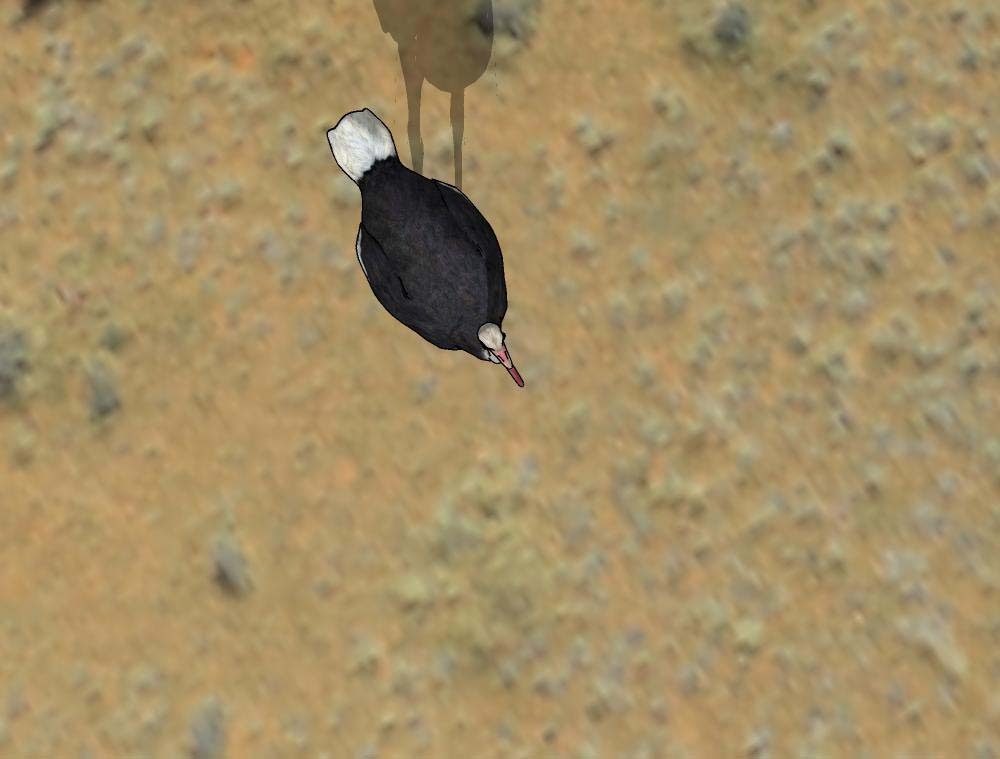springbok: (324, 104, 539, 395)
